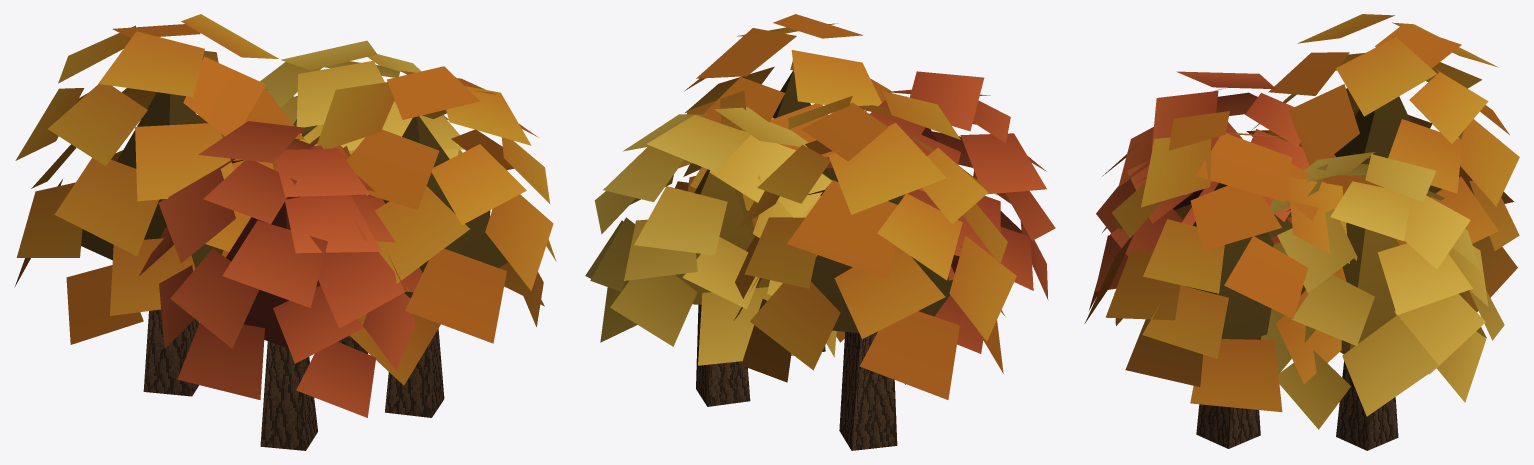
Rendered from forest_clump_a.glb.
3 renders of one model, left to right at view 1: azimuth 30°, elevation 25°; view 2: azimuth 150°, elevation 25°; view 3: azimuth 270°, elevation 25°, orthographic. The views are drawn at different scales.
Visible parts, largest first — view 1: forest_clump_a; view 2: forest_clump_a; view 3: forest_clump_a.
Part boxes in pixels (box(x1,y1,x2,y2)): forest_clump_a: box(14, 14, 556, 450); forest_clump_a: box(585, 14, 1055, 450); forest_clump_a: box(1084, 14, 1519, 450).
Bounding box in the file's own units: 8.9 × 6.9 × 8.17.
2 materials, 1 textured.
